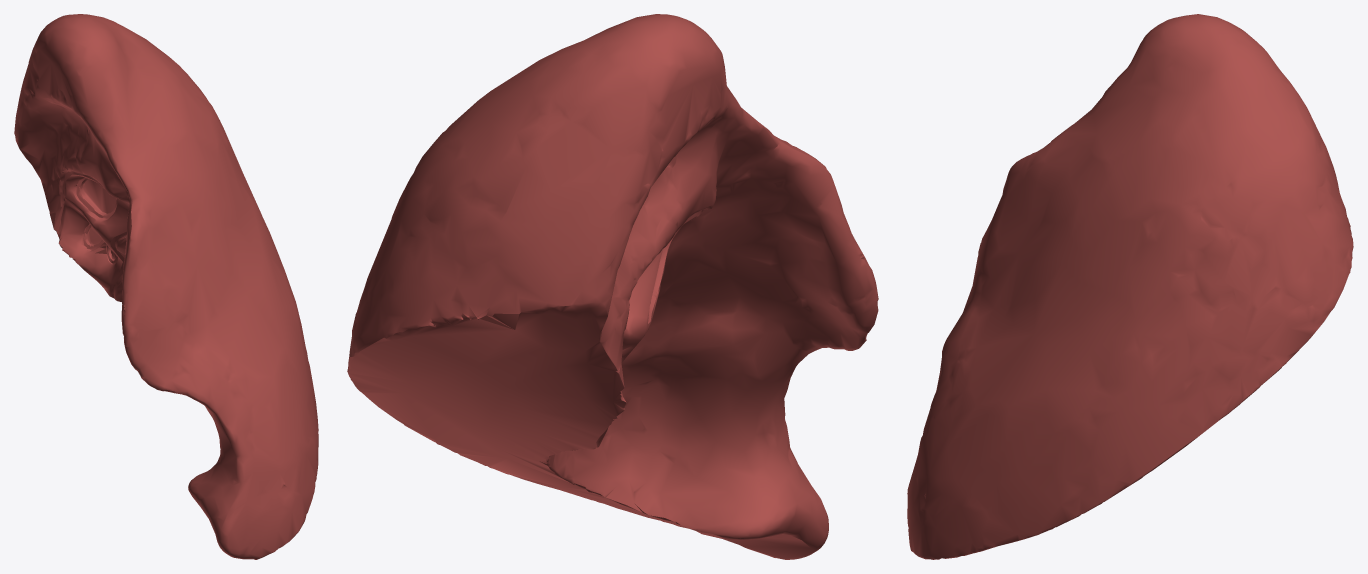
File: lung8.fbx
3 renders of one model, left to right at view 1: azimuth 30°, elevation 25°; view 2: azimuth 150°, elevation 25°; view 3: azimuth 270°, elevation 25°, orthographic. The views are drawn at different scales.
Parts seen in each view (by area): view 1: mesh; view 2: mesh; view 3: mesh.
Part boxes in pixels (x1=…): mesh: x1=14, y1=14, x2=318, y2=559; mesh: x1=347, y1=14, x2=878, y2=559; mesh: x1=907, y1=14, x2=1353, y2=559.
Size of the model in its own units: 114 by 208 by 168.
